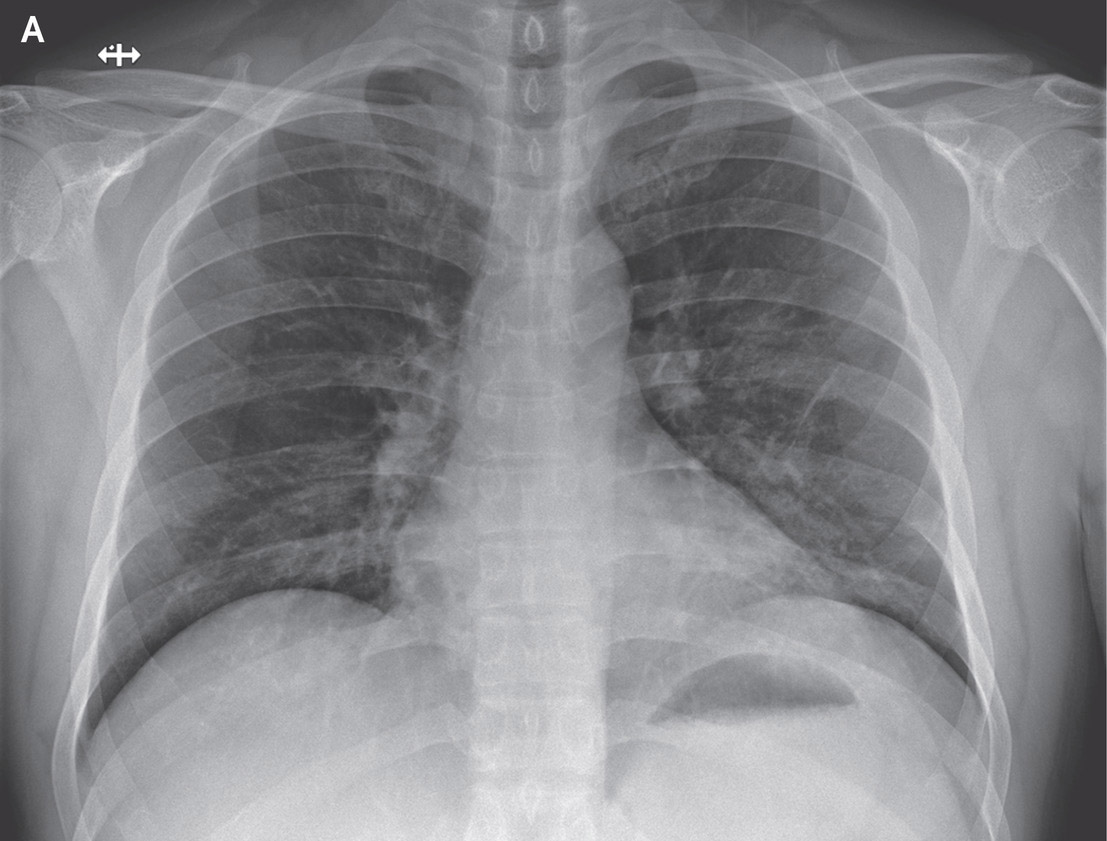Mildw: (79, 71, 493, 752), (584, 61, 971, 676)
